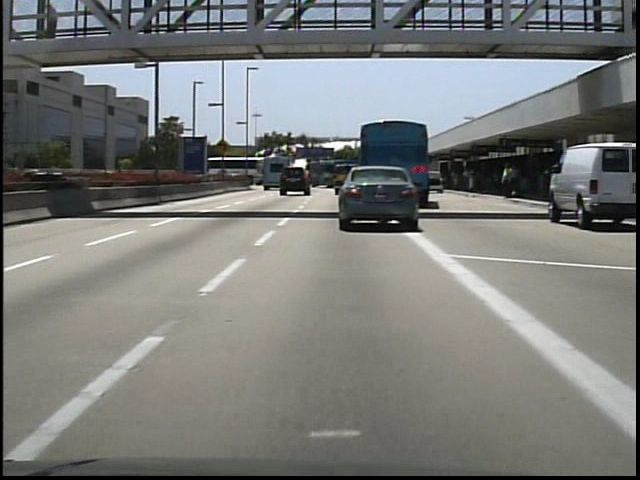person: (43, 3, 65, 52), (502, 160, 519, 200)
